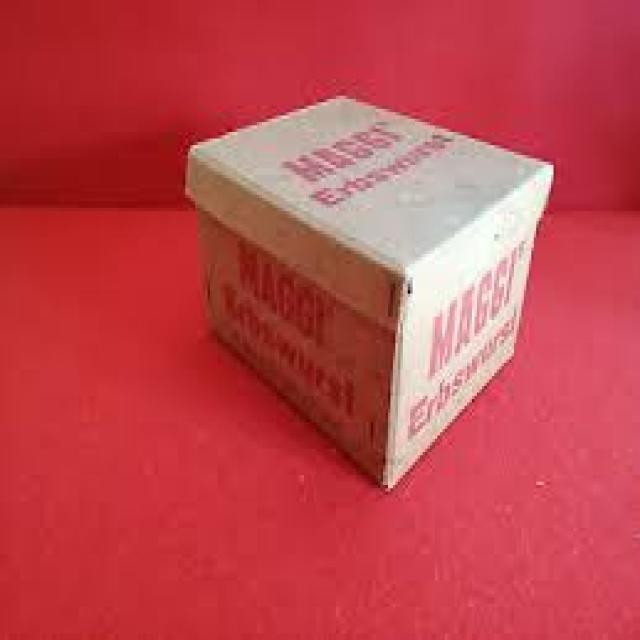cardboard: (188, 99, 553, 488)
